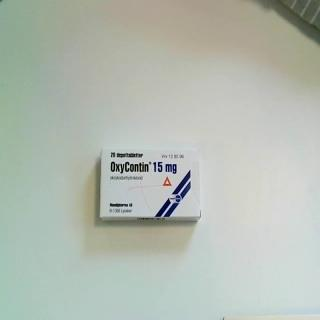oxycontin15mg: (99, 145, 204, 225)
